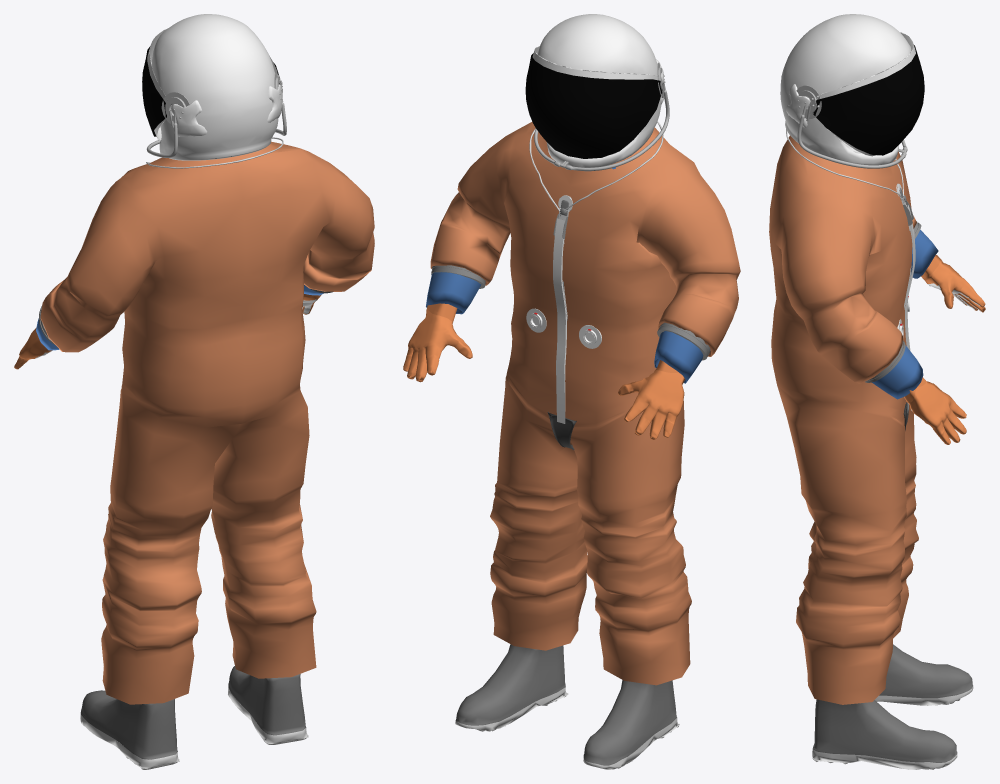
Rendered from argus-suit.glb.
The picture shows the model from 3 angles, left to right: view 1: azimuth 30°, elevation 25°; view 2: azimuth 150°, elevation 25°; view 3: azimuth 270°, elevation 25°; orthographic projection. The views are drawn at different scales.
Visible parts, largest first — view 1: Advanced Crew Escape Suit; view 2: Advanced Crew Escape Suit; view 3: Advanced Crew Escape Suit.
Boxes of the visible parts, box(x1,y1,x2,y2) form: Advanced Crew Escape Suit: box(14, 14, 374, 769); Advanced Crew Escape Suit: box(403, 14, 740, 769); Advanced Crew Escape Suit: box(769, 14, 985, 769).
Size of the model in its own units: 0.8871 by 2 by 0.5548.
